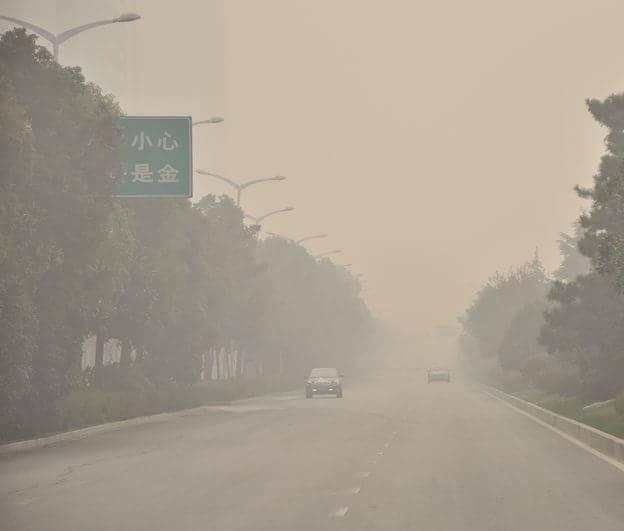car: (304, 365, 346, 400), (426, 363, 452, 383)
